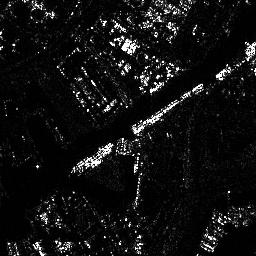ship: (70, 139, 114, 176)
